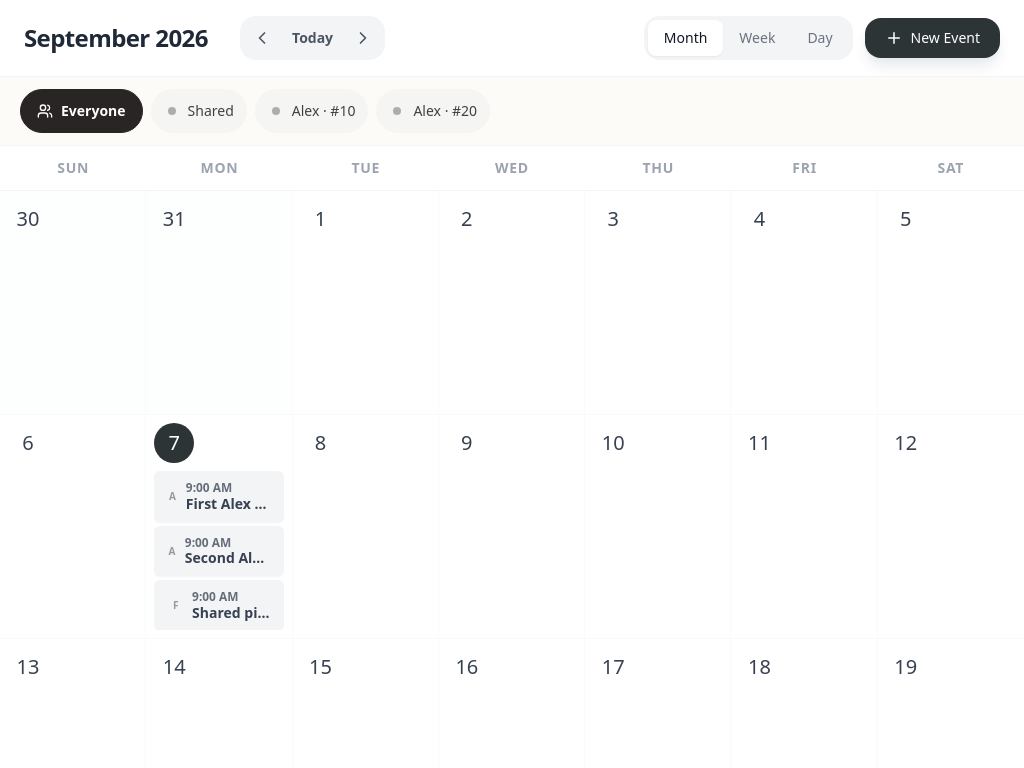
Test: explains empty selection and date ranges with no matching events
Click the button "Alex · #10" at {"x": 312, "y": 111}, box [255, 89, 368, 133]
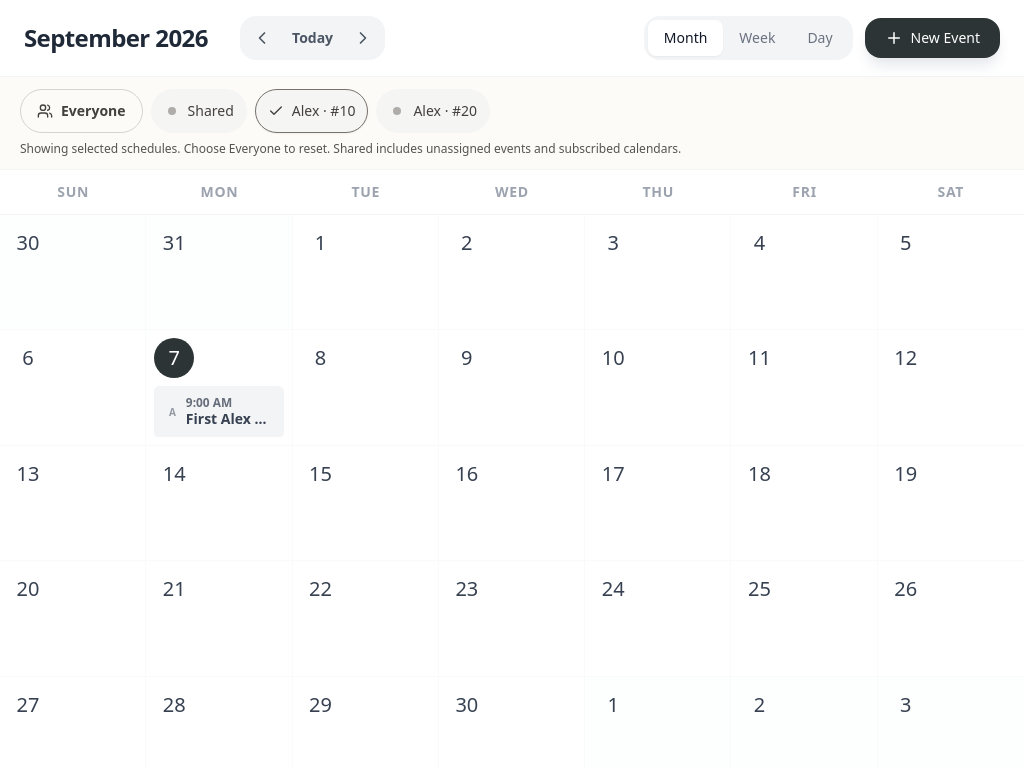
Click the button "Alex · #10" at {"x": 312, "y": 111}, box [255, 89, 368, 133]
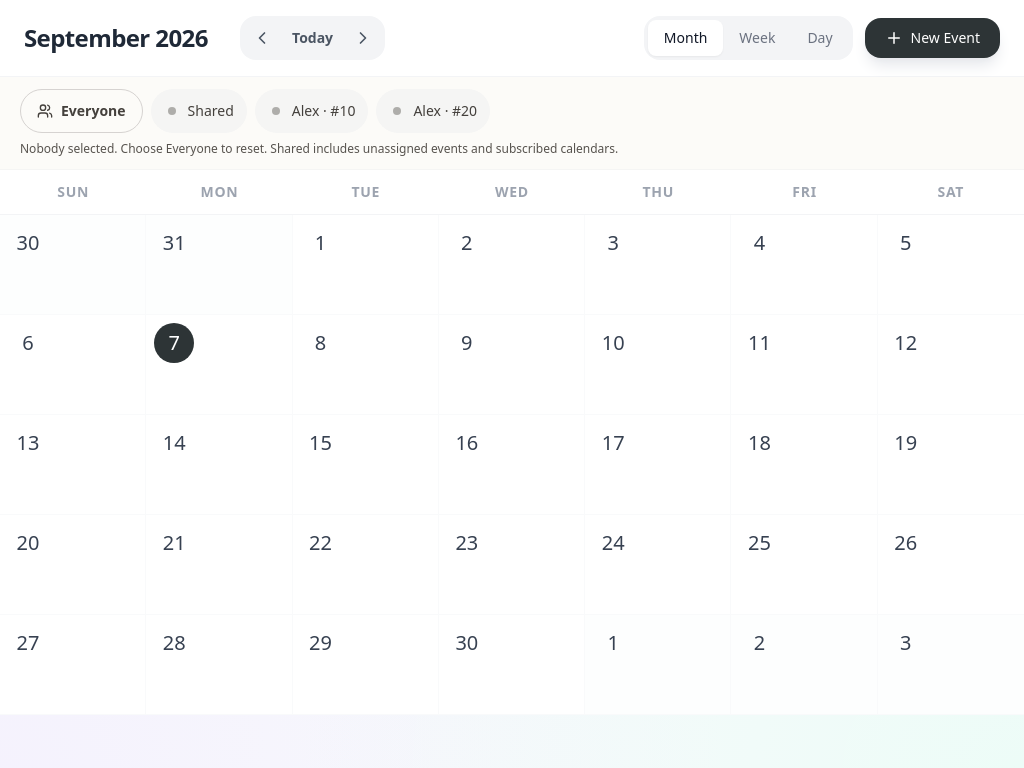
Expected: the message shows "Nobody selected", [20, 140, 118, 157]
Expected: the button "First Alex appointment" is gone
Click the button "Alex · #10" at {"x": 312, "y": 111}, box [255, 89, 368, 133]
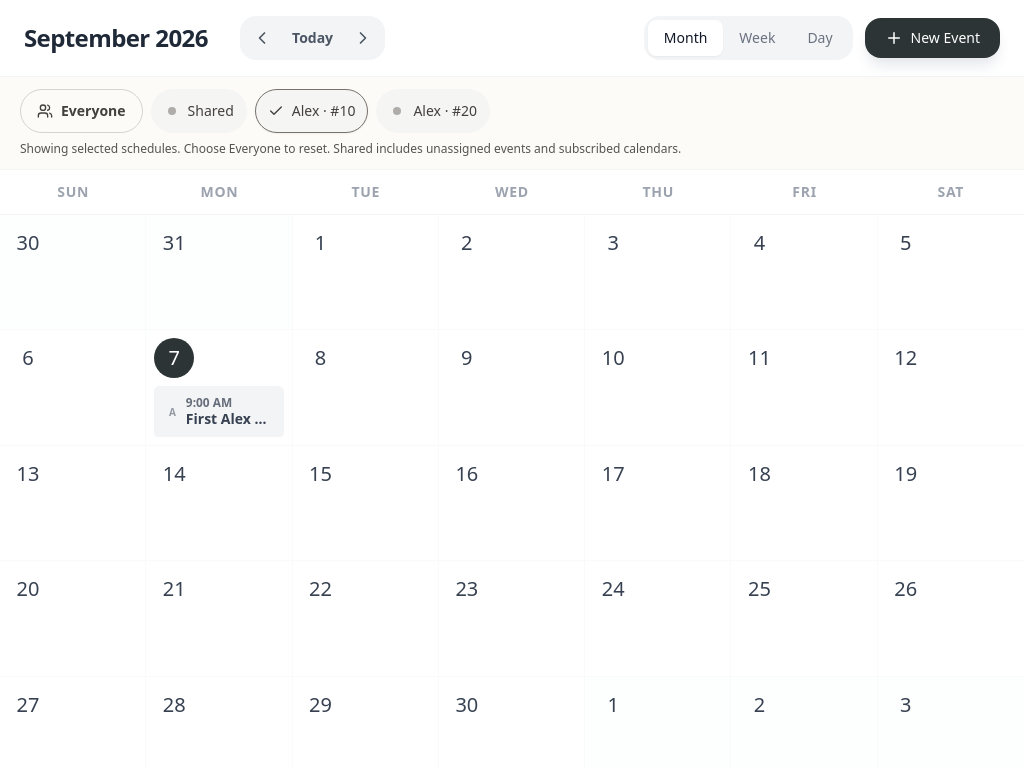
Click the button named "Next period" at {"x": 363, "y": 38}, box [345, 20, 381, 56]
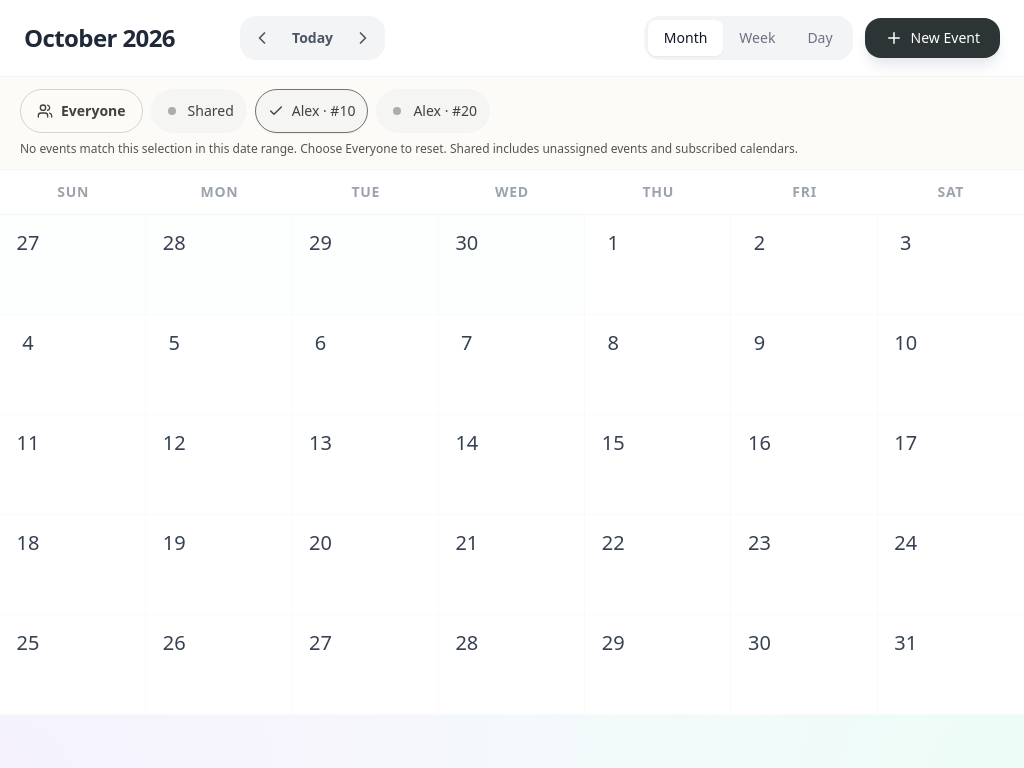
Expected: the message shows "No events match this selection", [20, 140, 297, 157]
